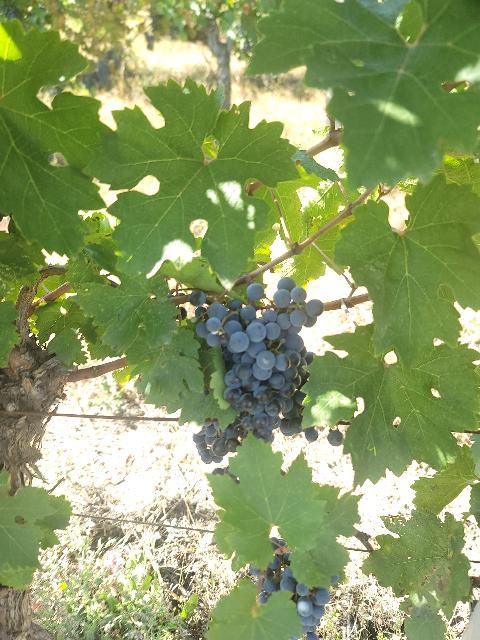grapes: (189, 278, 324, 385)
